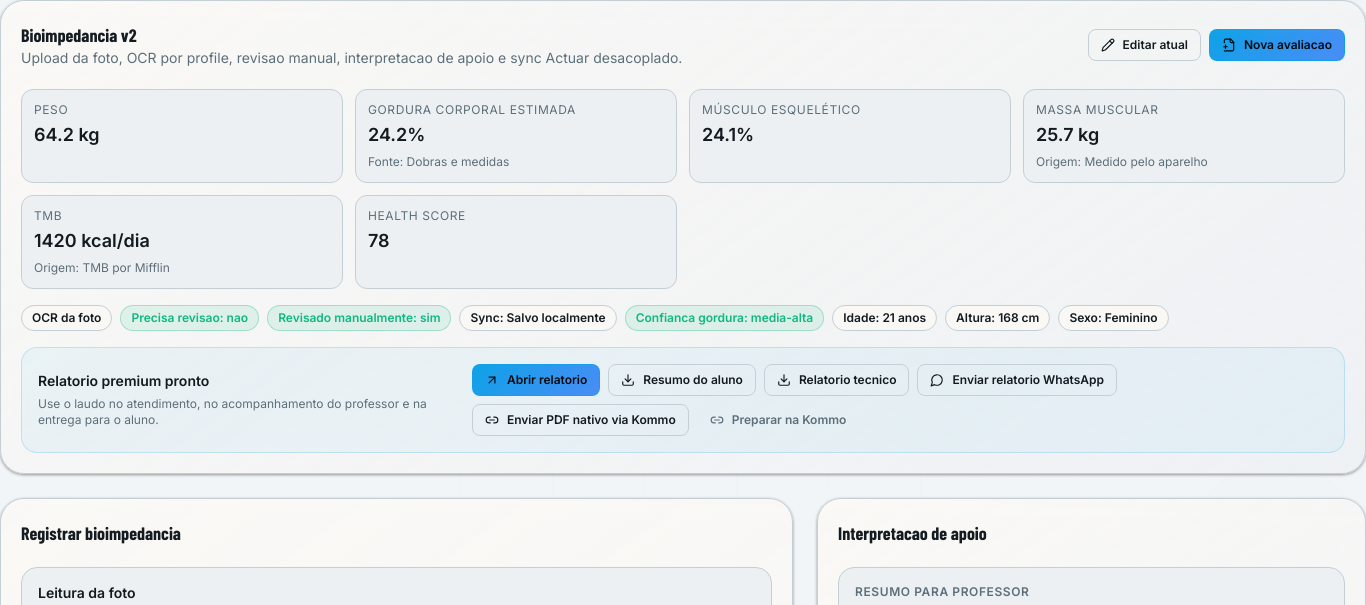
Test: MemberBodyCompositionTab › shows the premium report CTA in the member workspace for an existing evaluation
Expected: the text "Relatorio premium pronto" is shown, [38,373,209,390]
Expected: the button "Resumo do aluno" is shown, [608,364,756,396]
Click the button "Editar atual" at [1144, 45], box [1088,29,1201,61]
(page scrolled)
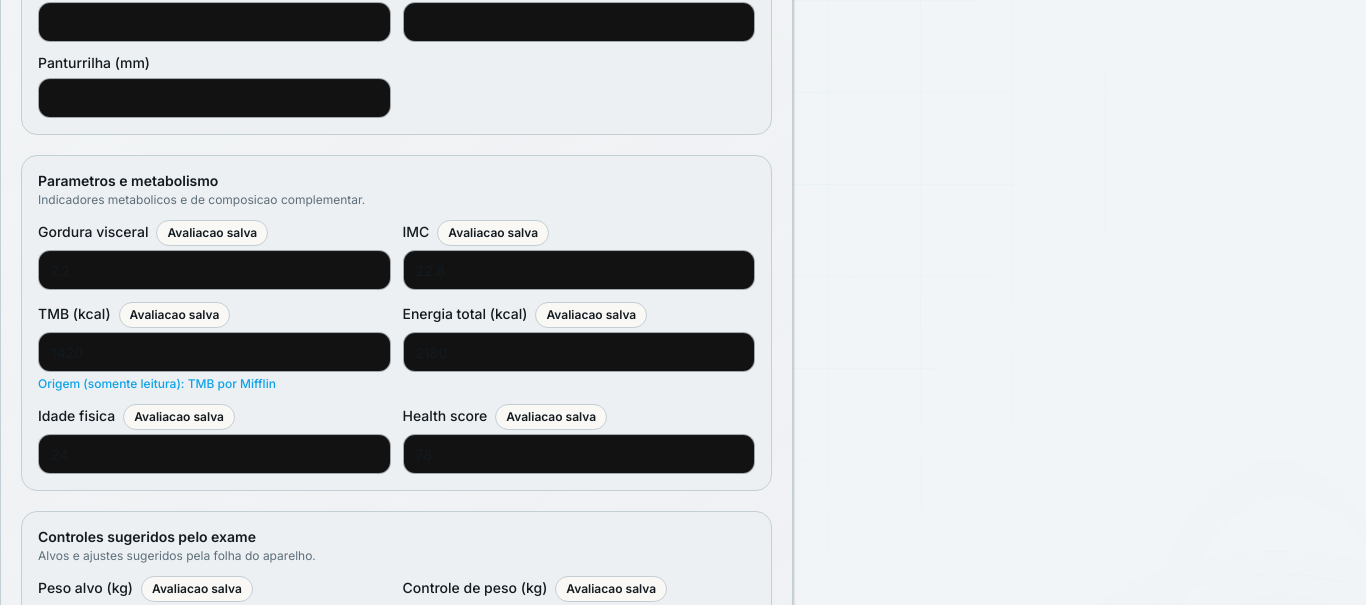
Expected: the text "Origem (somente leitura): TMB por Mifflin" is shown, [38,376,276,391]
